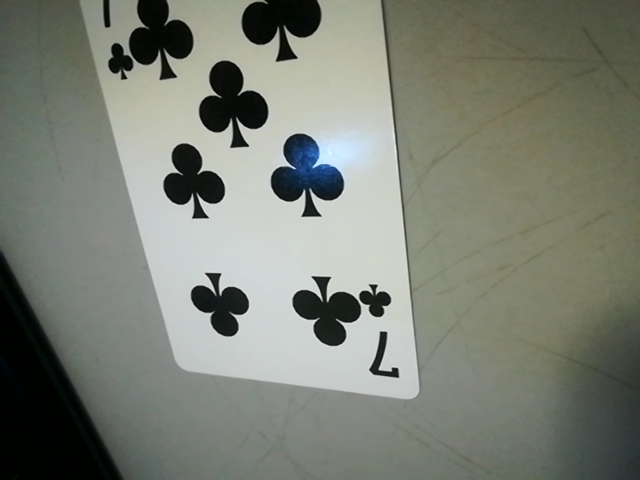mh 7: (356, 278, 412, 391)
